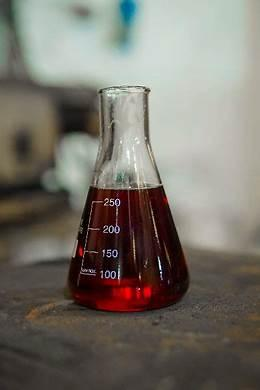Titrarion: (65, 81, 194, 310)
